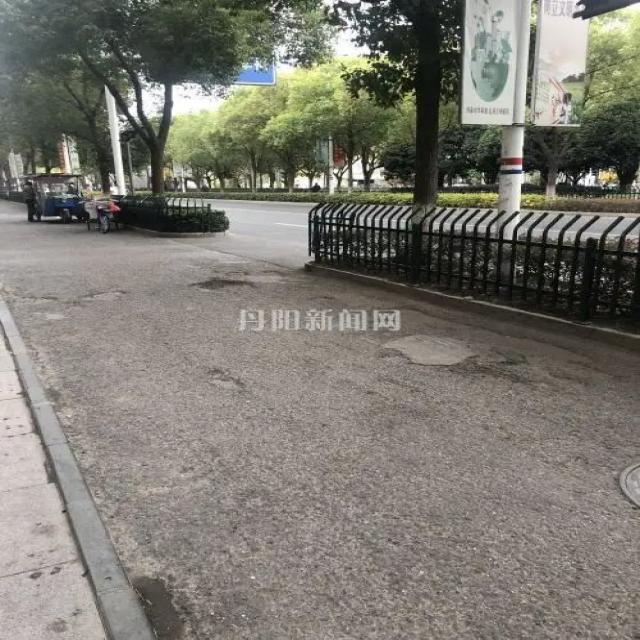Pothole: (383, 330, 516, 380), (207, 373, 251, 399), (70, 284, 127, 304), (192, 279, 259, 292)
